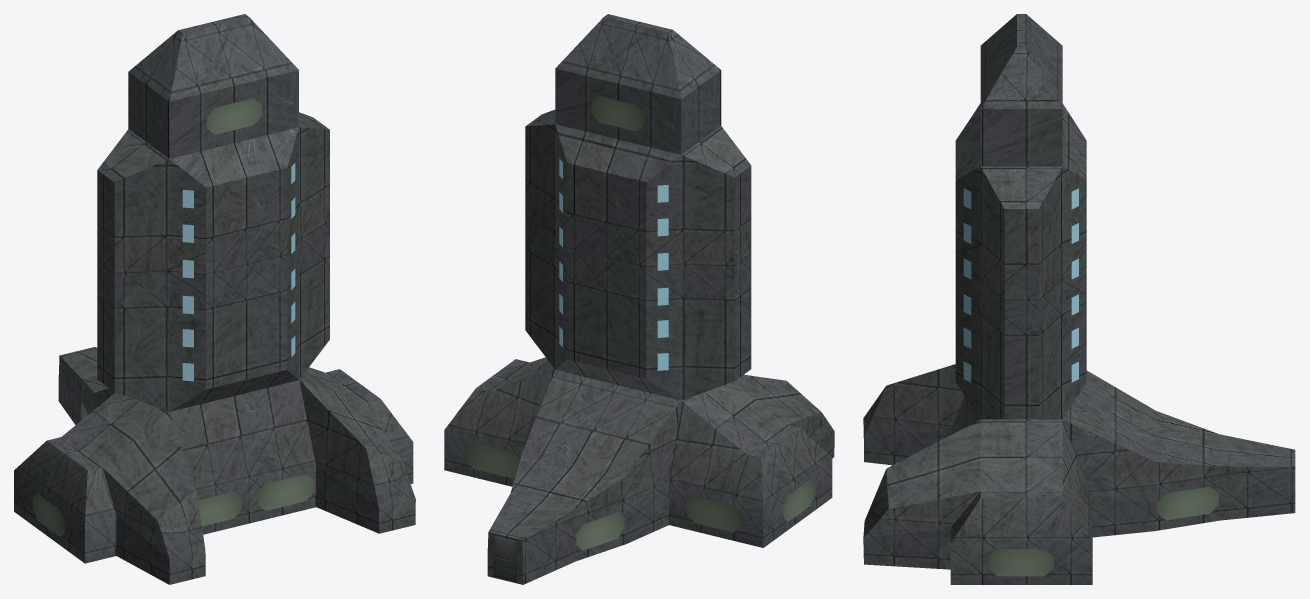
Rendered from BaseCore.FBX.
3 views of the same model, side by side, from view 1: azimuth 30°, elevation 25°; view 2: azimuth 150°, elevation 25°; view 3: azimuth 270°, elevation 25° (orthographic). The views are drawn at different scales.
Visible parts, largest first — view 1: Box37, BaseCore, Plane12, Plane11; view 2: Box37, BaseCore, Plane12, Plane13; view 3: Box37, BaseCore, Plane11.
Part boxes in pixels (box(x1,y1,x2,y2)): Box37: box(14, 14, 415, 584); BaseCore: box(32, 98, 314, 537); Plane12: box(182, 190, 193, 381); Plane11: box(291, 163, 295, 357); Box37: box(444, 14, 834, 584); BaseCore: box(465, 96, 814, 550); Plane12: box(657, 184, 668, 370); Plane13: box(493, 536, 516, 582); Box37: box(863, 14, 1295, 584); BaseCore: box(988, 486, 1218, 576); Plane11: box(963, 188, 1078, 382).
Size of the model in its own units: 264 by 361 by 298.
Materials: 4 (3 with a texture image).
